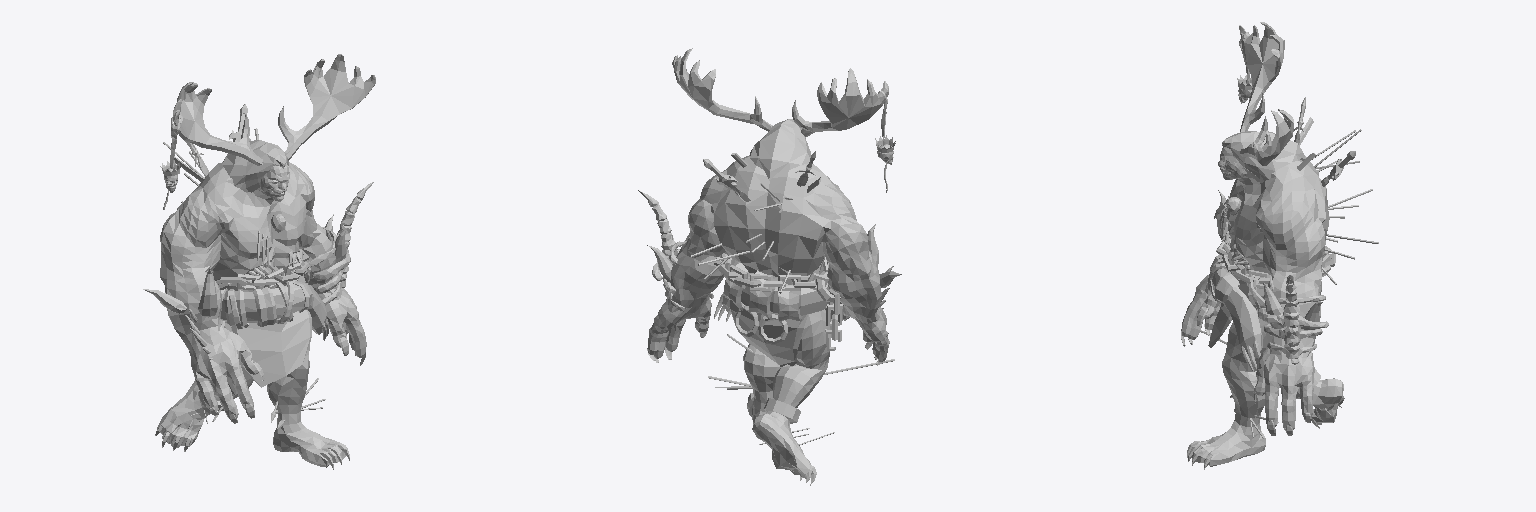
Rendered from walking_000014.obj.
The picture shows the model from 3 angles: view 1: azimuth 30°, elevation 25°; view 2: azimuth 150°, elevation 25°; view 3: azimuth 270°, elevation 25°; orthographic projection.
Parts seen in each view (by area): view 1: MAW; view 2: MAW; view 3: MAW.
Part boxes in pixels (bbox=[...]): MAW: bbox=[143, 54, 375, 469]; MAW: bbox=[638, 48, 901, 485]; MAW: bbox=[1181, 22, 1378, 469].
Size of the model in its own units: 15.52 by 23.66 by 10.73.